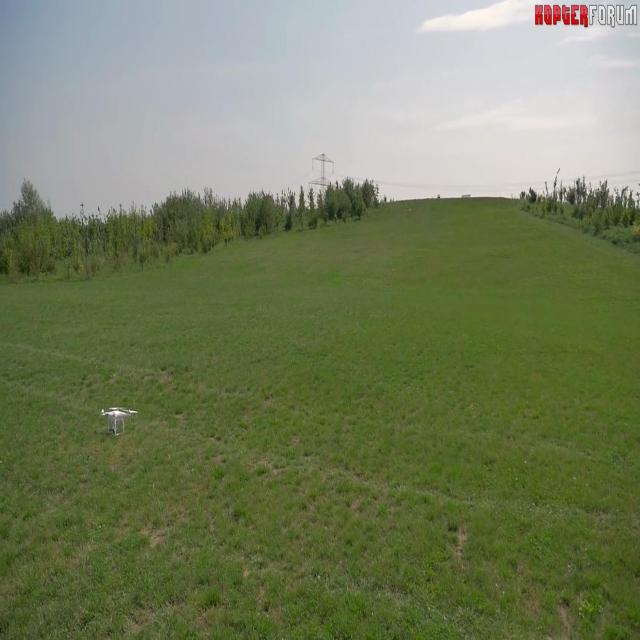drone: (99, 401, 136, 436)
